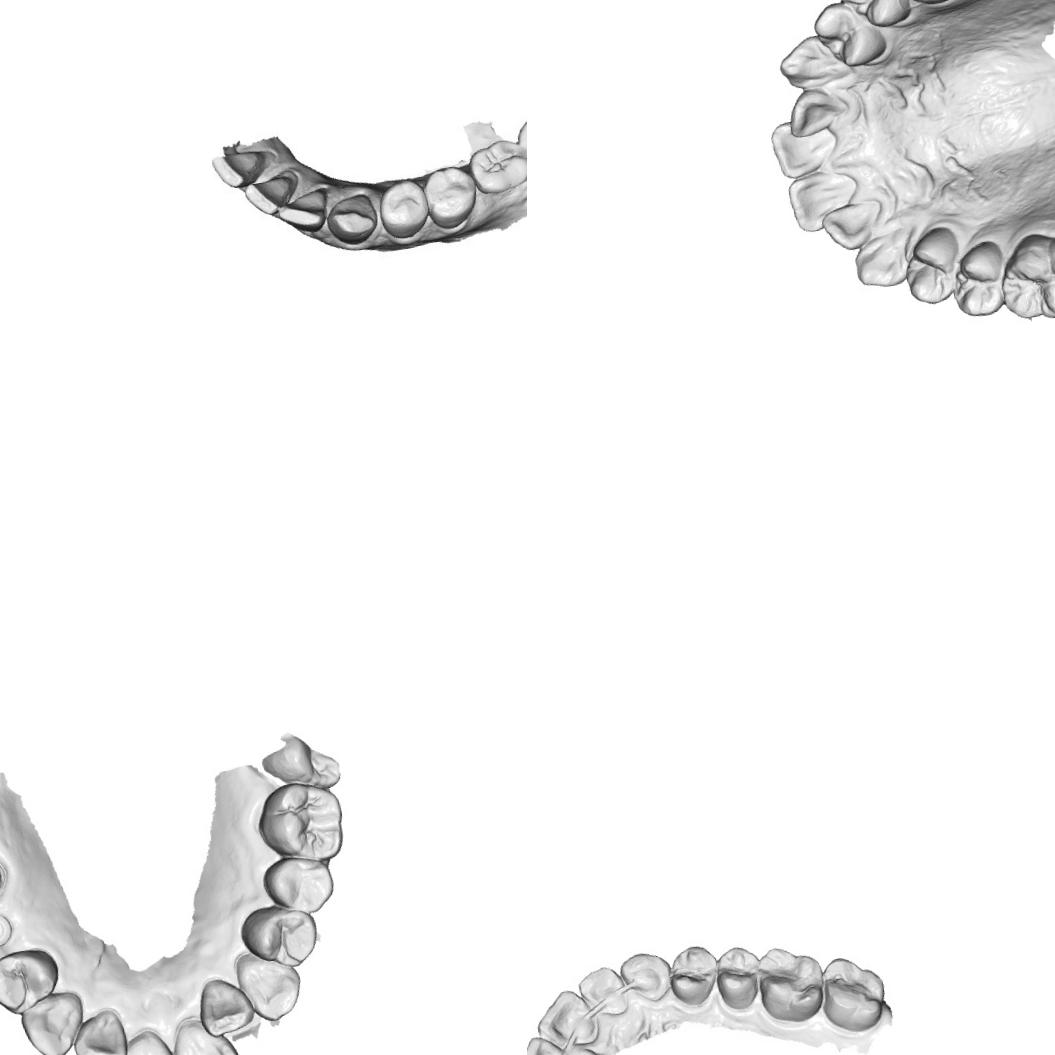canine: (771, 29, 856, 98), (232, 948, 306, 1025), (14, 989, 89, 1055), (849, 230, 912, 292), (616, 946, 677, 1008), (328, 190, 382, 248)
implant: (0, 906, 18, 953)
incisor: (766, 112, 844, 182), (784, 166, 864, 234), (532, 985, 602, 1052), (819, 196, 890, 254), (782, 84, 852, 142), (194, 974, 255, 1040), (167, 1010, 246, 1055), (574, 962, 631, 1022), (210, 142, 274, 190), (69, 1008, 132, 1055), (245, 174, 296, 216), (108, 1027, 184, 1055), (281, 192, 328, 233), (527, 1031, 574, 1055)
molar: (250, 776, 350, 871), (814, 950, 891, 1038), (753, 940, 830, 1028), (991, 224, 1055, 327), (466, 131, 527, 199)
premolar: (235, 899, 322, 976), (809, 0, 890, 73), (898, 224, 967, 308), (256, 852, 338, 922), (945, 239, 1012, 322), (0, 944, 64, 1016), (376, 174, 436, 244), (421, 162, 480, 233), (710, 942, 768, 1013), (664, 942, 724, 1010), (832, 0, 914, 34)
